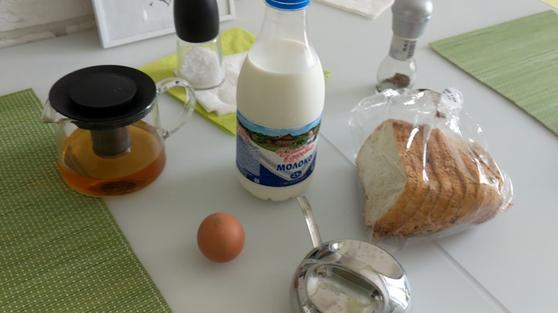egg: (199, 210, 246, 265)
milk: (237, 1, 321, 202)
white_bread: (354, 120, 504, 234)
